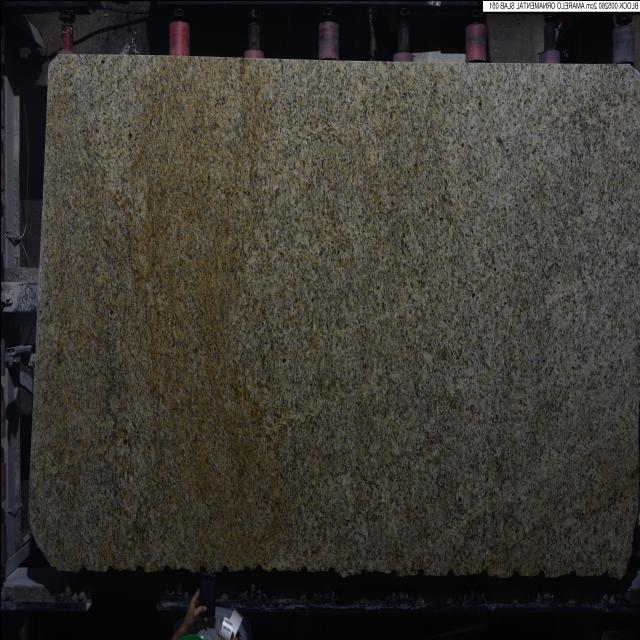chapa: (30, 54, 640, 578)
veio: (414, 565, 426, 579), (444, 567, 456, 579), (220, 562, 230, 576), (536, 568, 546, 578)
